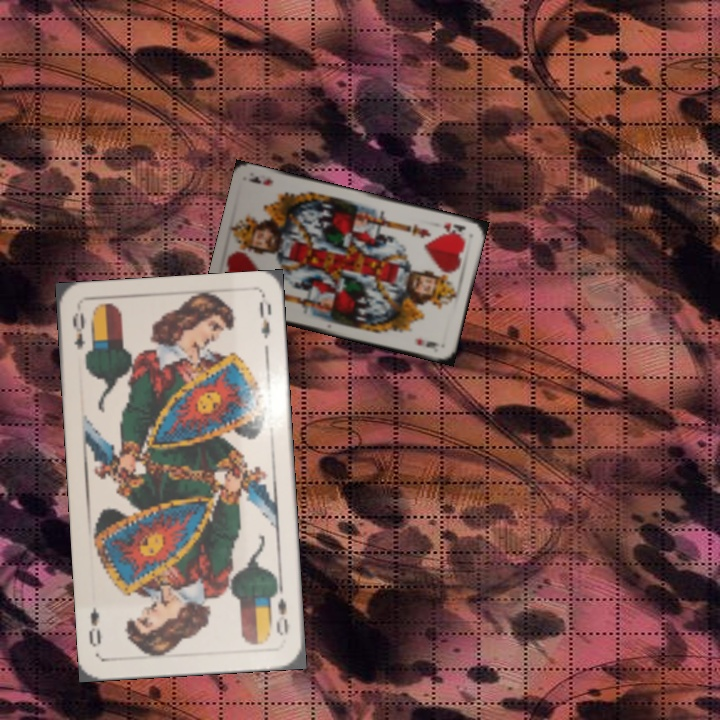EO: (267, 585, 291, 638), (68, 308, 87, 352)
HK: (440, 219, 469, 240)
